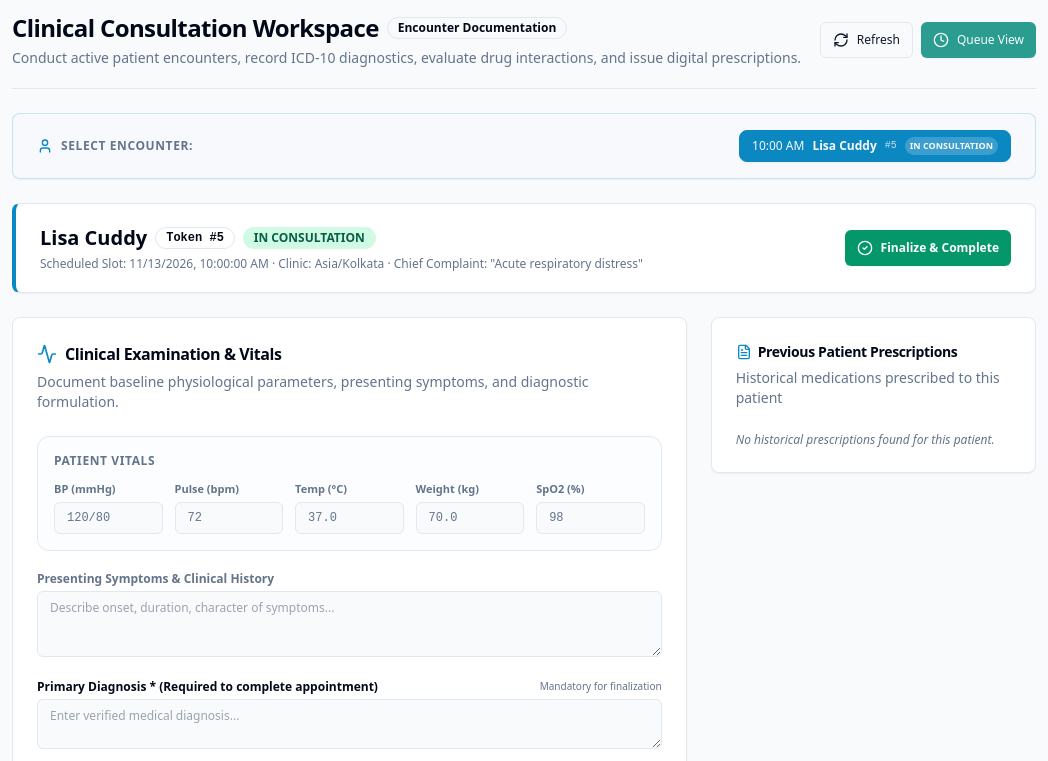
Test: Doctor Consultation Workspace & History Suites › DoctorConsultationsPage Workspace › validates mandatory clinical diagnosis before completing encounter
Expected: the text "Lisa Cuddy" in the row of "Select Encounter:" is shown, [812,137,877,154]
Find Finalize & Complete button
Click the button "Finalize & Complete": click(928, 248) [845,230,1011,266]
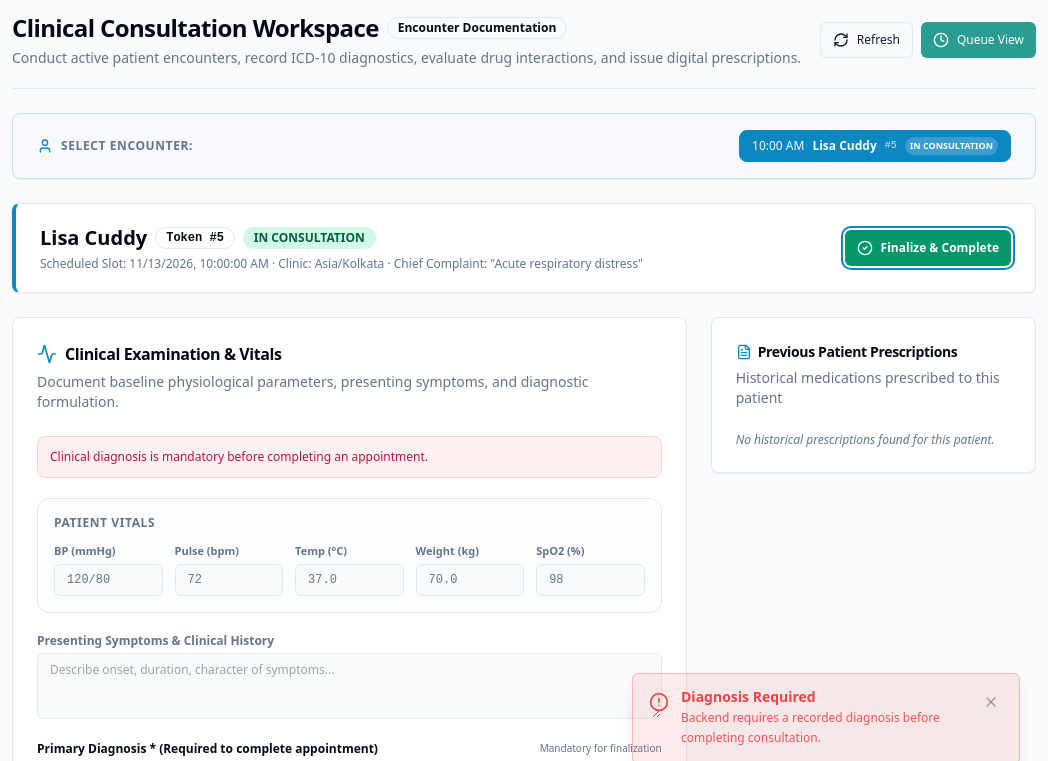
Expected: the text "Clinical diagnosis is mandatory" is shown, [50,448,428,465]
